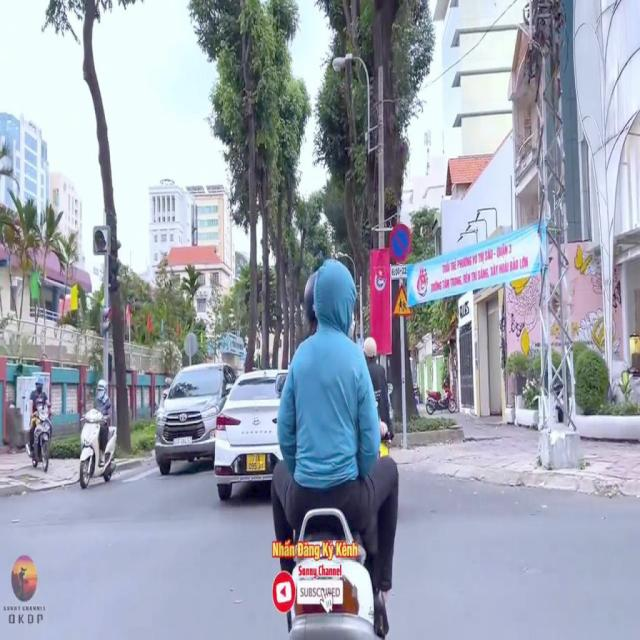cam_do_xe: (390, 222, 412, 264)
chu_y_tre_em: (392, 283, 412, 315)
khac: (391, 266, 407, 277)
